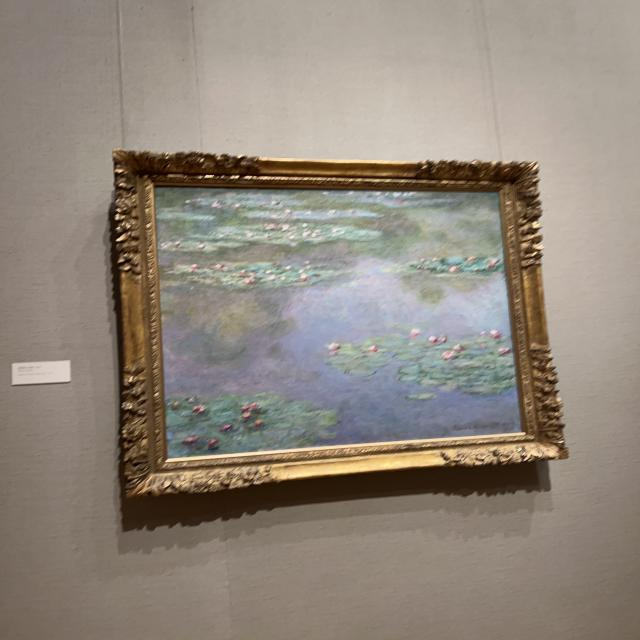lilies: (155, 186, 523, 458)
